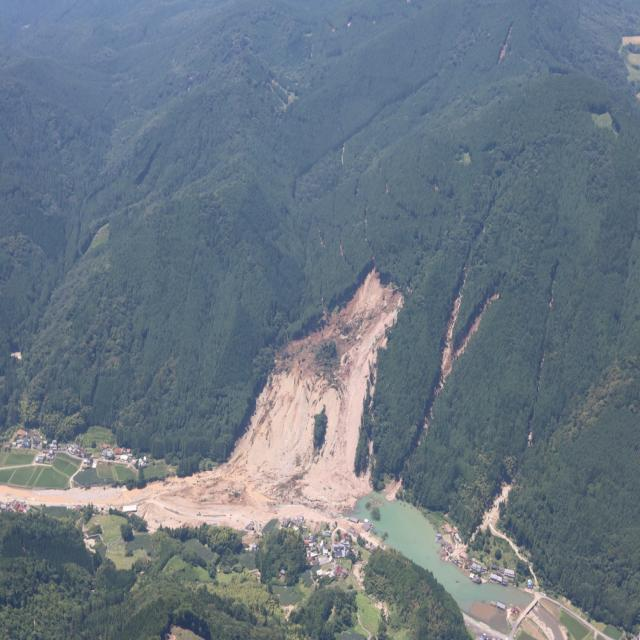Debris-flow: (1, 268, 405, 527), (434, 294, 480, 400), (484, 486, 510, 528), (620, 37, 640, 91), (591, 112, 618, 135)
landslide: (140, 270, 402, 525), (619, 36, 640, 82)
